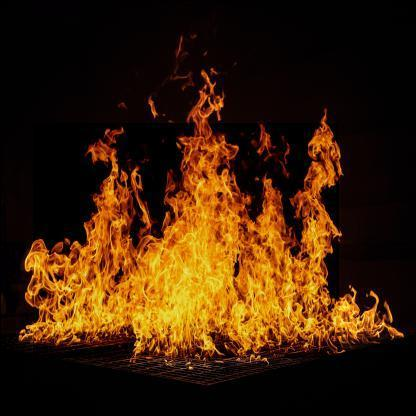Fire: (9, 76, 399, 374)
